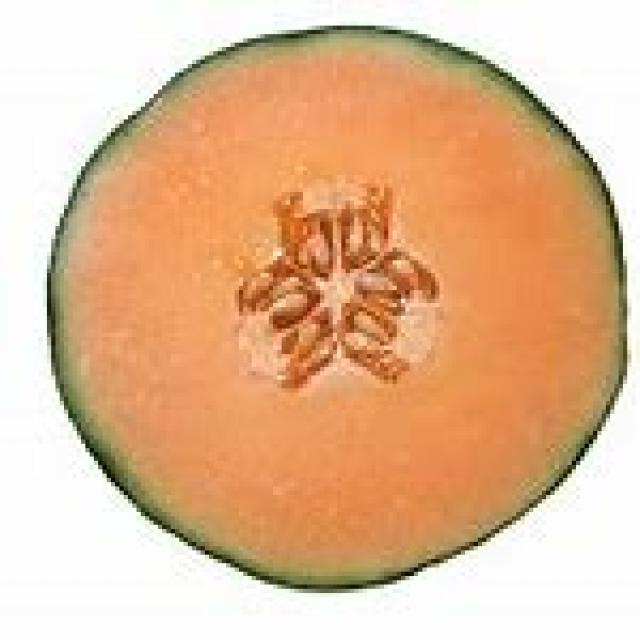Hami Melon: (43, 26, 626, 597)
